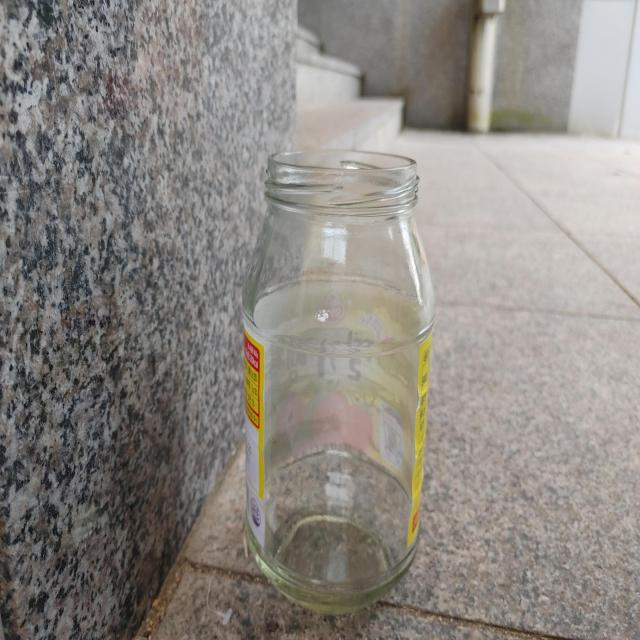glass: (243, 150, 436, 614)
